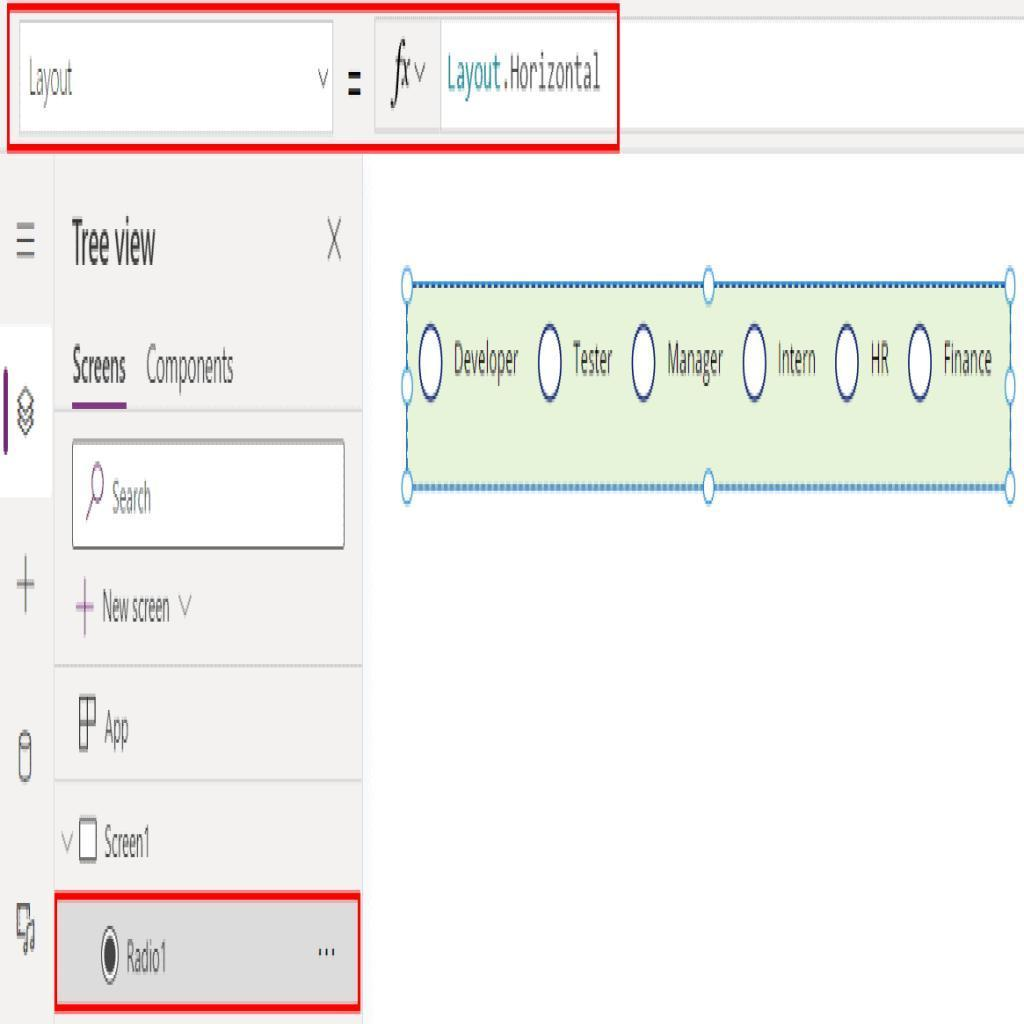checkbox: (81, 821, 100, 860)
dropdown: (25, 20, 334, 132)
icon: (75, 694, 103, 755), (72, 578, 98, 637), (14, 900, 39, 956), (17, 385, 37, 439), (17, 730, 36, 785), (17, 556, 35, 614), (325, 214, 345, 261), (17, 221, 39, 260)
input: (442, 20, 1024, 128), (72, 442, 346, 545)
label: (69, 212, 162, 273), (142, 337, 238, 396), (101, 588, 193, 629), (451, 340, 521, 387), (665, 337, 727, 389), (70, 342, 129, 390), (941, 337, 997, 378), (125, 935, 171, 982), (105, 822, 153, 863), (572, 338, 618, 380), (771, 342, 821, 379), (101, 708, 135, 757), (868, 340, 894, 378)
radio: (535, 323, 567, 409), (417, 322, 449, 404), (907, 319, 934, 407), (833, 326, 861, 403), (743, 324, 769, 405), (632, 324, 657, 405), (100, 926, 123, 987)
